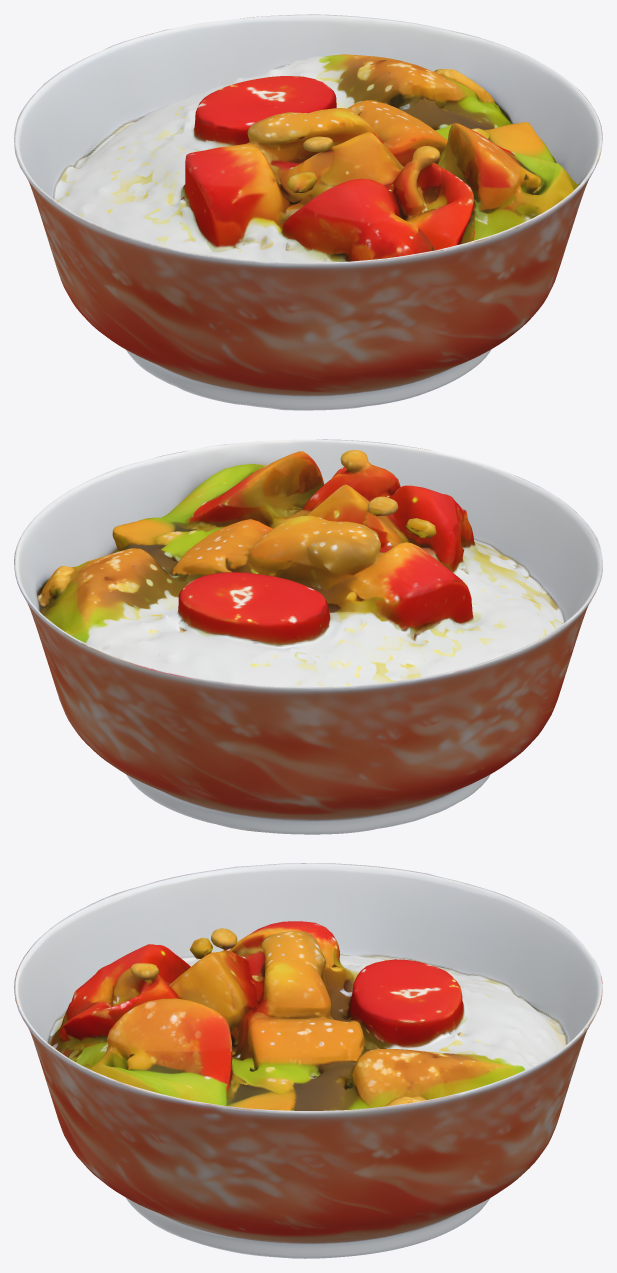
File: kung_poa.glb
The picture shows the model from 3 angles, top to bottom: view 1: azimuth 30°, elevation 25°; view 2: azimuth 150°, elevation 25°; view 3: azimuth 270°, elevation 25°; orthographic projection.
Visible parts, largest first — view 1: model; view 2: model; view 3: model.
Part boxes in pixels (bbox=[...]): model: bbox=[14, 14, 602, 410]; model: bbox=[14, 439, 602, 834]; model: bbox=[14, 863, 602, 1258].
Bounding box in the file's own units: 1.9 × 0.8294 × 1.9.
1 material, 1 textured.
